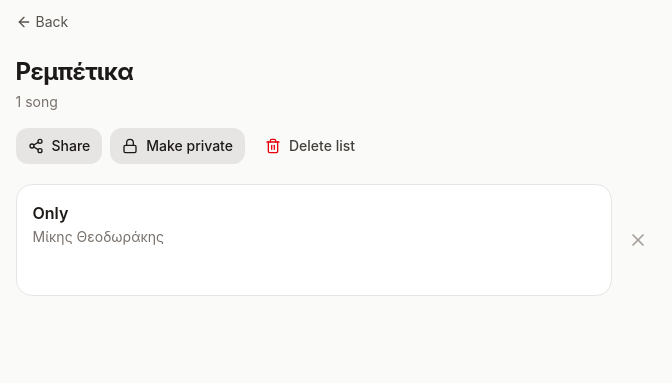
Test: ListDetailPage removal › offers removal on a list of one, where there is nothing to reorder
Click the button named "Remove Only from this list".
click(638, 240)  # box [620,222,656,258]
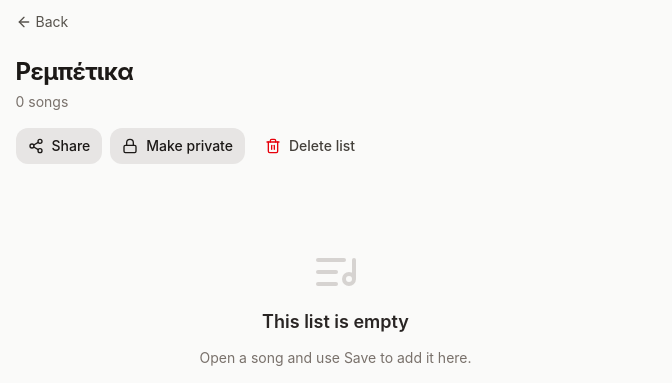
Now the heading "This list is empty" is shown, box [262,308,409,336]
